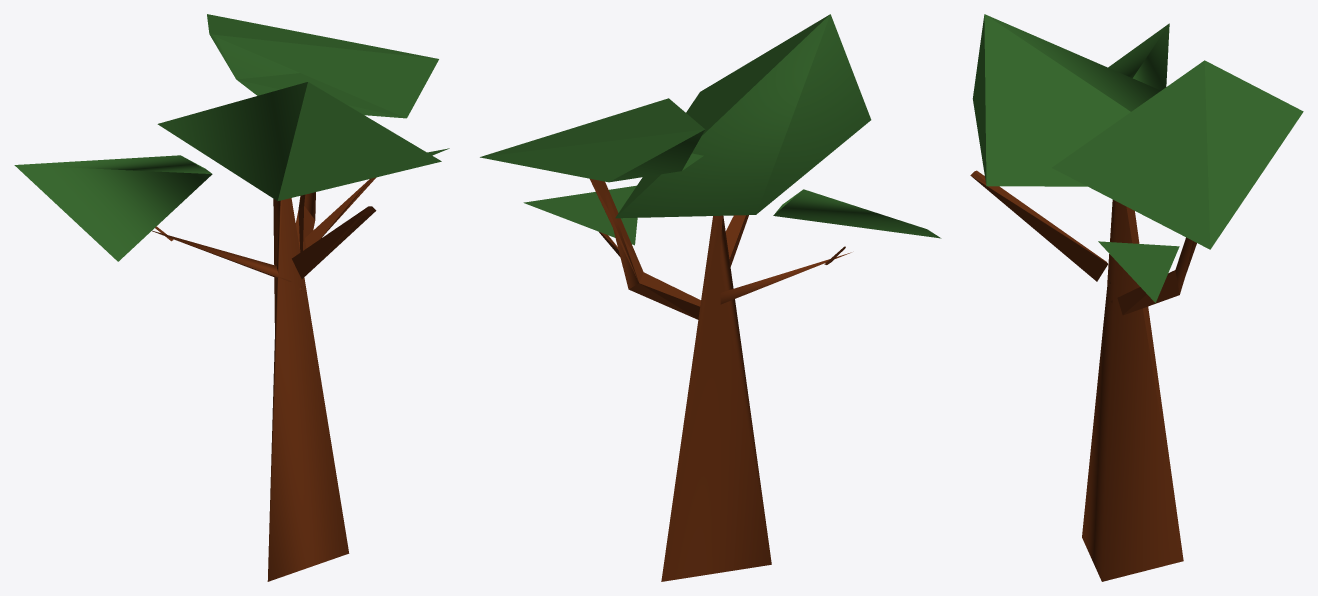
Rendered from Tree1_low.glb.
3 renders of one model, left to right at view 1: azimuth 30°, elevation 25°; view 2: azimuth 150°, elevation 25°; view 3: azimuth 270°, elevation 25°, orthographic. The views are drawn at different scales.
Parts seen in each view (by area): view 1: Tree_temp_climate_001; view 2: Tree_temp_climate_001; view 3: Tree_temp_climate_001.
Boxes of the visible parts, left/top/right/bottom form: Tree_temp_climate_001: left=14, top=14, right=449, bottom=581; Tree_temp_climate_001: left=480, top=14, right=941, bottom=581; Tree_temp_climate_001: left=970, top=14, right=1303, bottom=581.
Bounding box in the file's own units: 4.66 × 5.4 × 3.14.
1 material, 1 textured.
